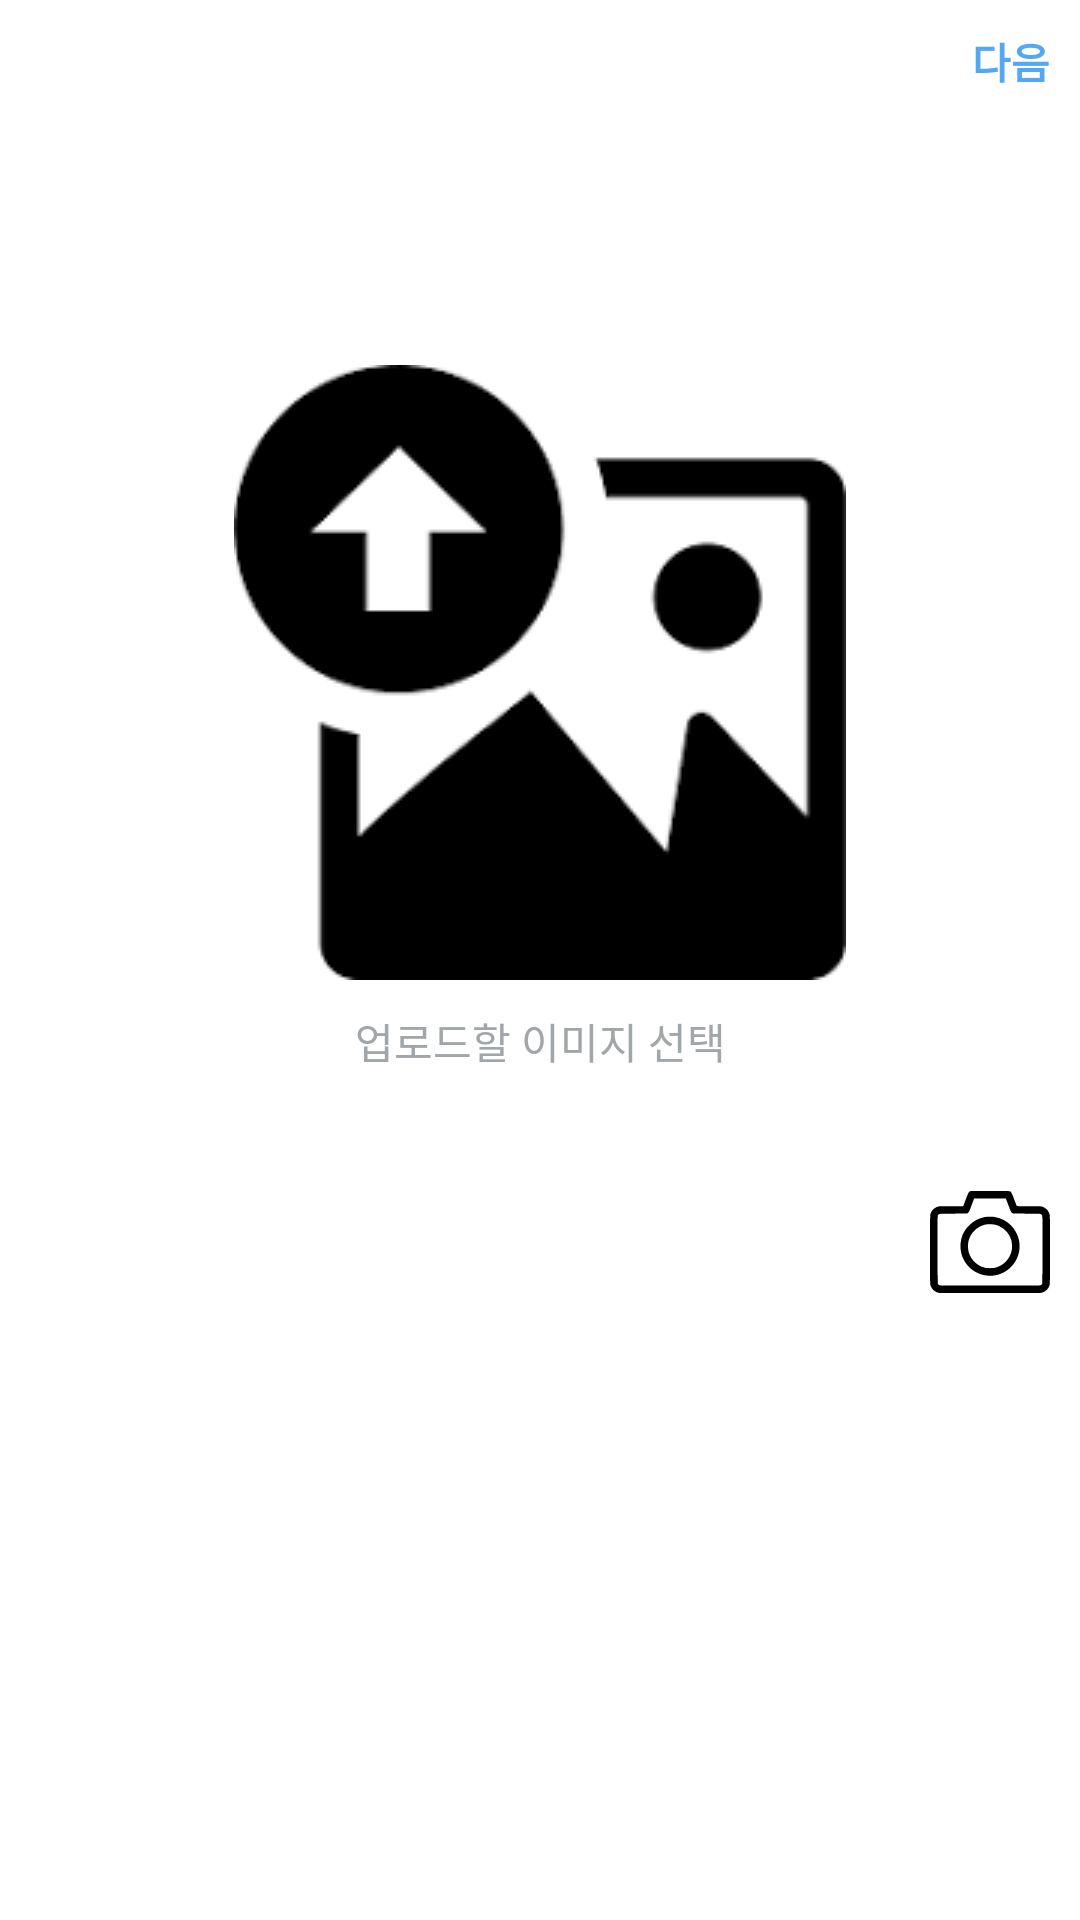

Screen size 1080px x 1920px. Icon name, then its center in pixels as [x,y]:
camera: [990,1242]
